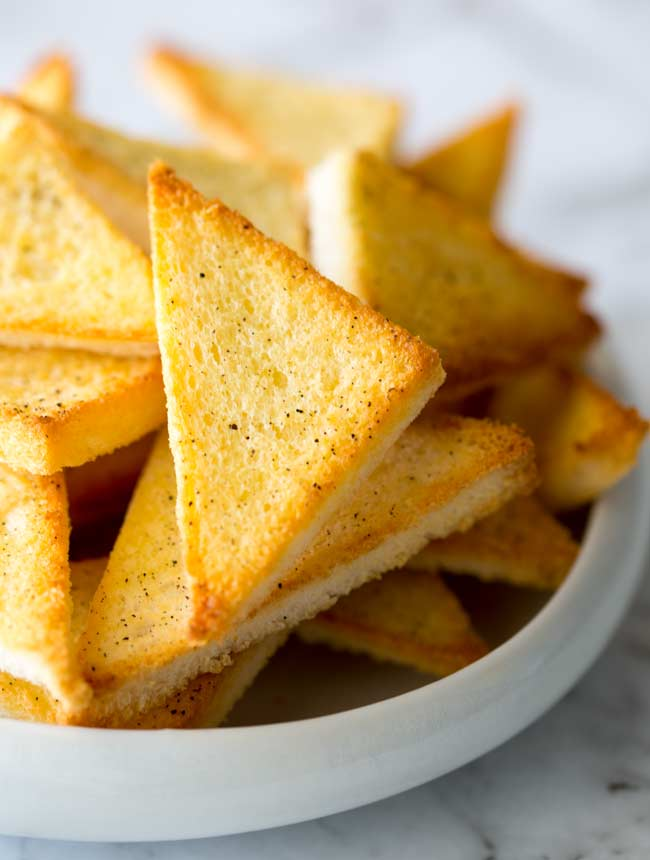Toast: (136, 153, 453, 641)
